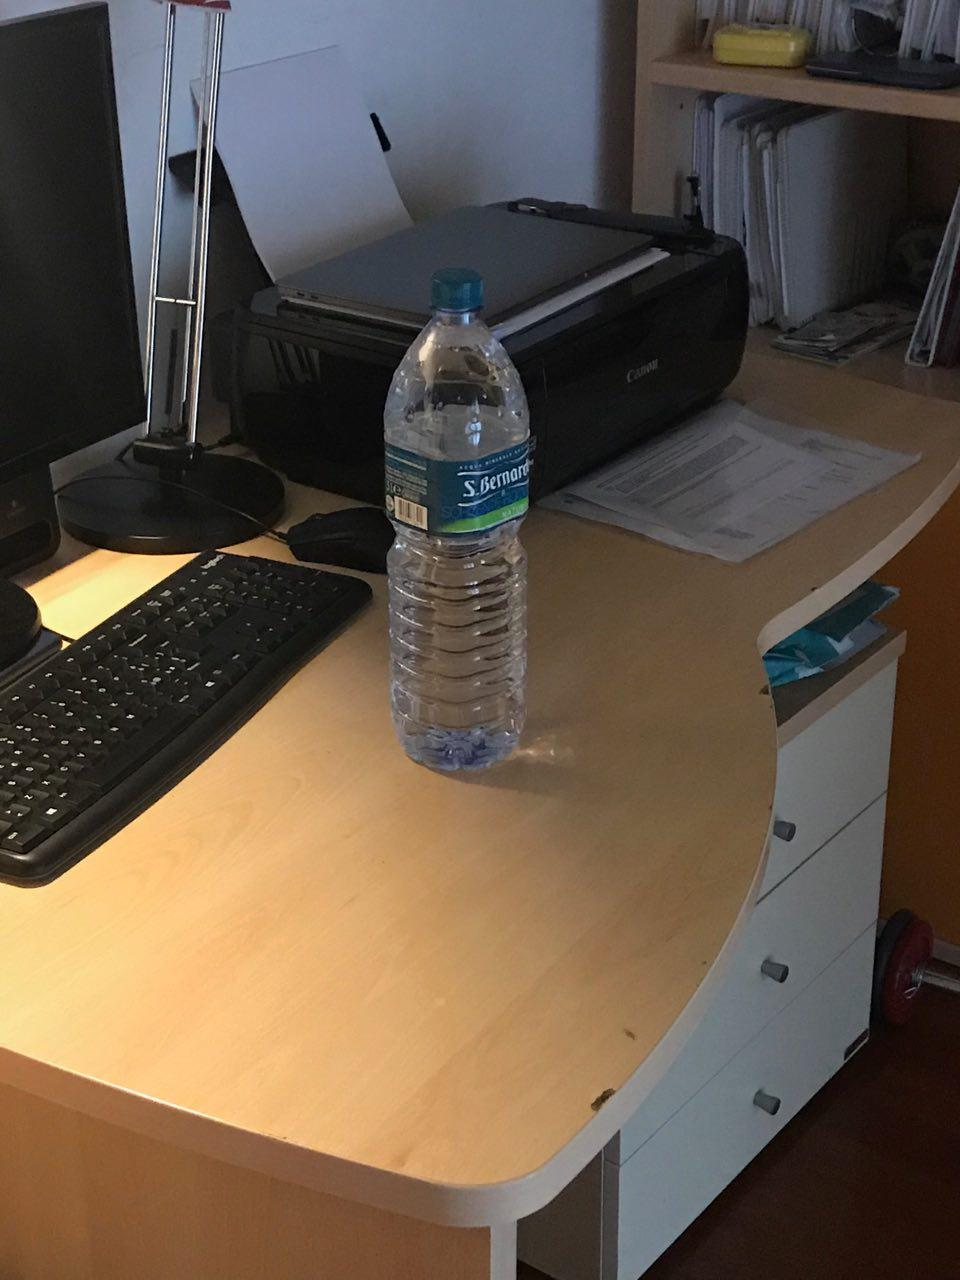san_bernardo: (383, 267, 533, 773)
